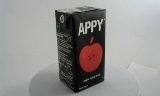appy: (50, 5, 99, 92)
